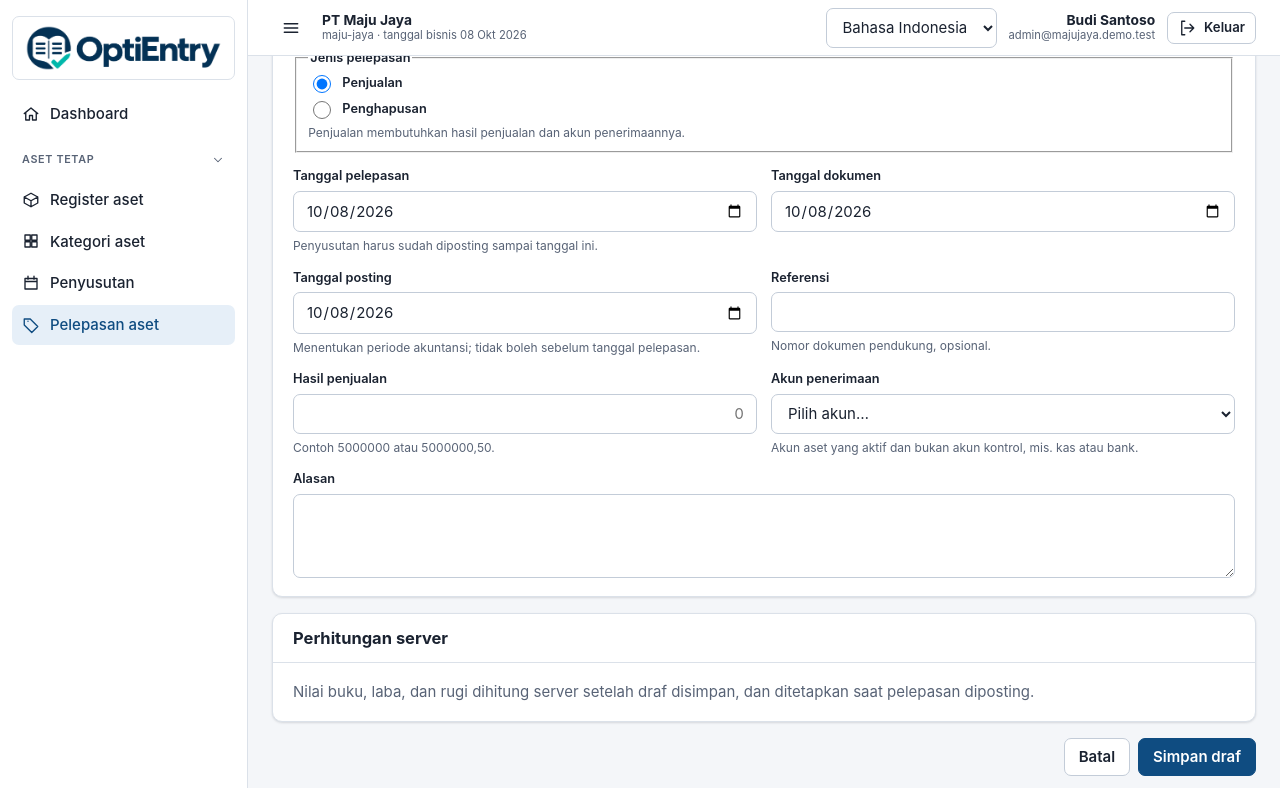
Test: asset disposal editor › sends a sale with its proceeds and receiving account, preselecting the asset it was started from
The image size is (1280, 788).
(page scrolled)
In the field labelled "Hasil penjualan": (525, 414) [293,394,757,434], type "90000000"
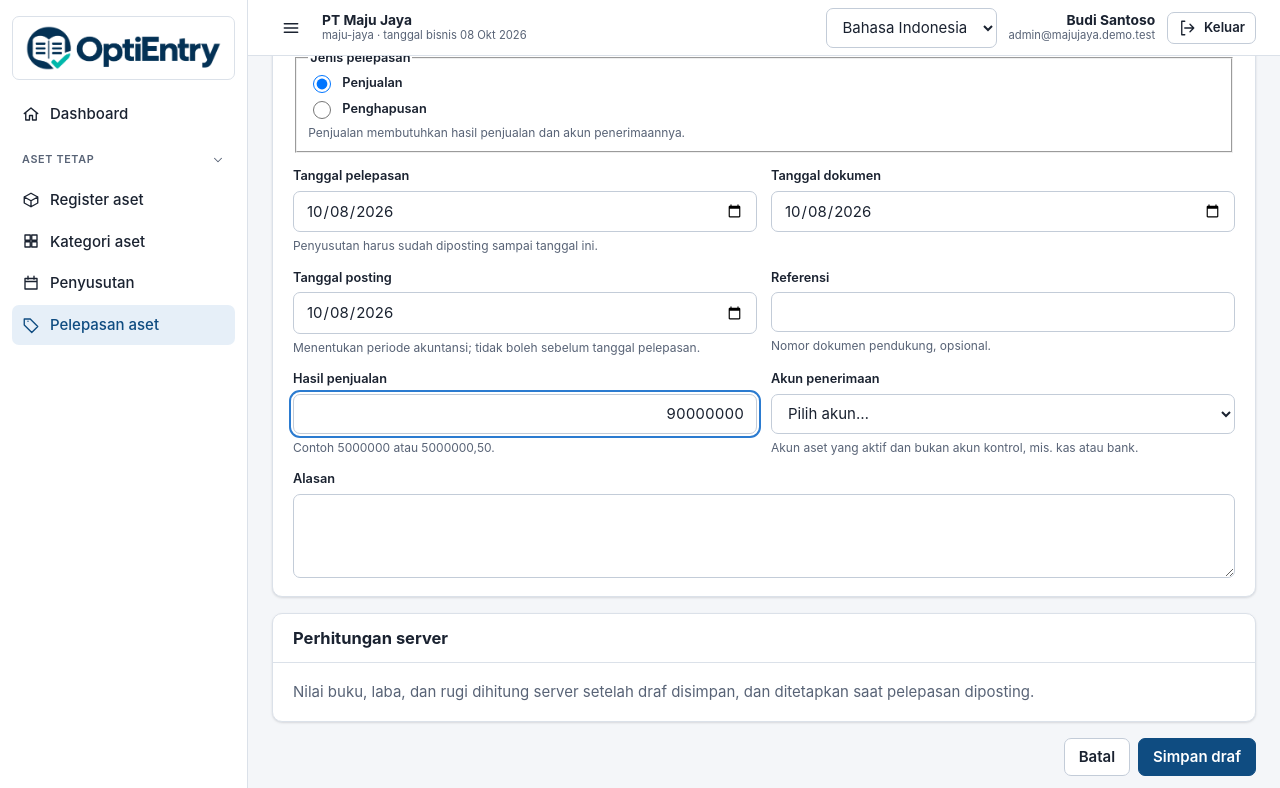
Select "1120 · Bank BCA" in the dropdown labelled "Akun penerimaan": (1003, 414) [771,394,1235,434]
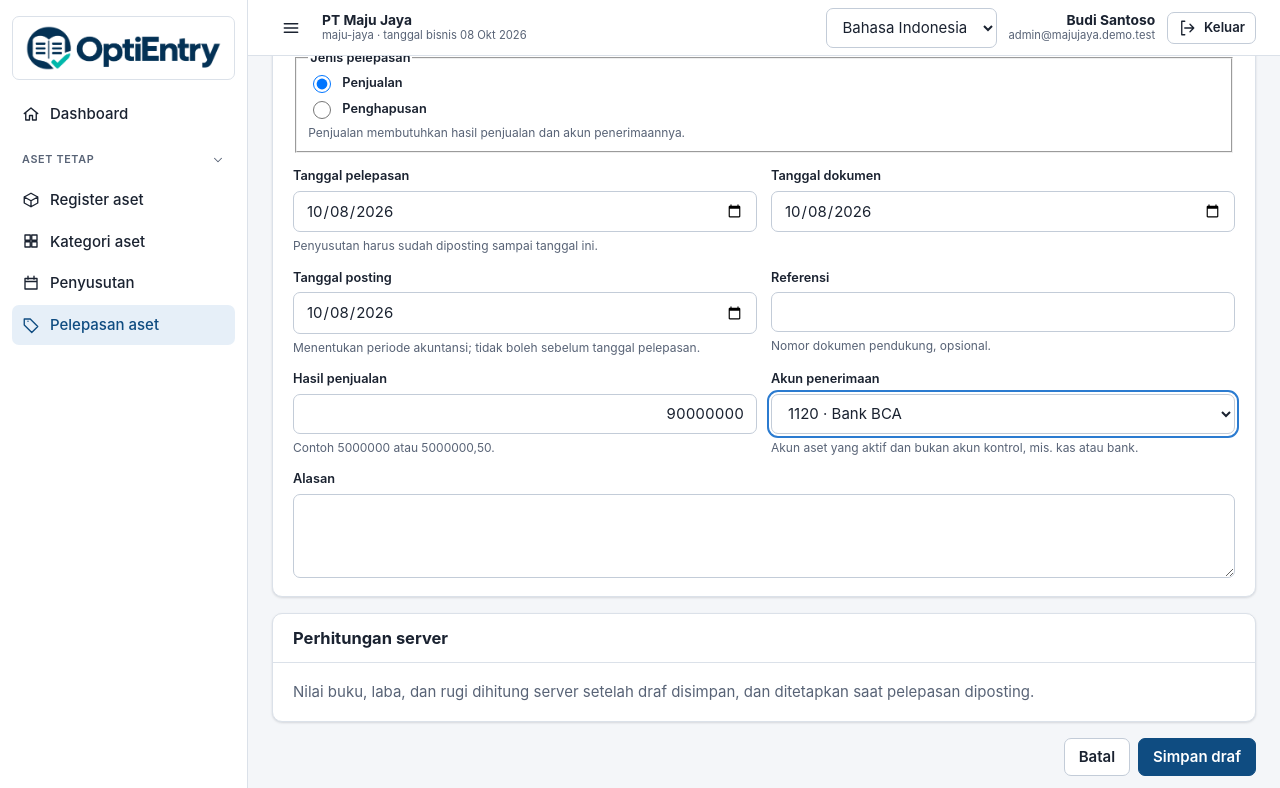
In the text box labelled "Alasan": (764, 536) [293,494,1235,578], type "Dijual ke dealer"
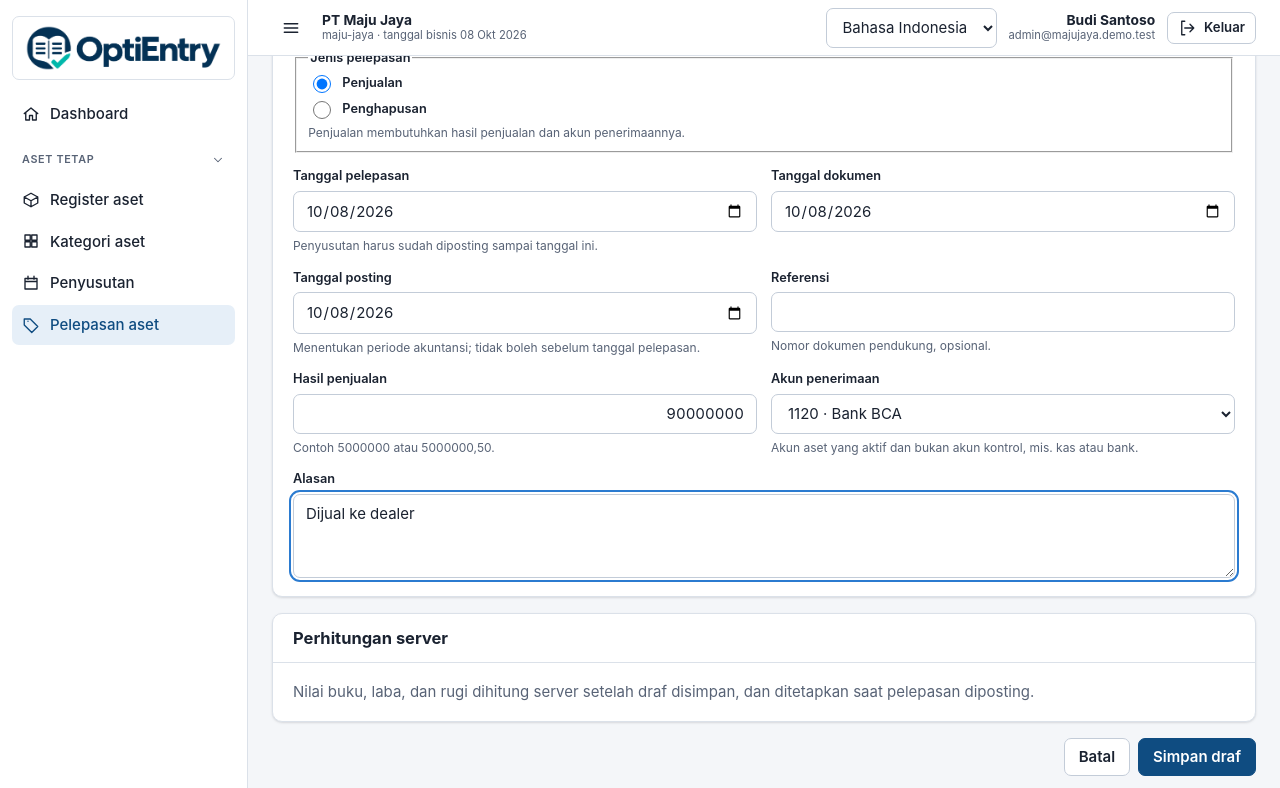
Click the button "Simpan draf": click(1197, 757) [1138,738,1256,776]
(page scrolled)
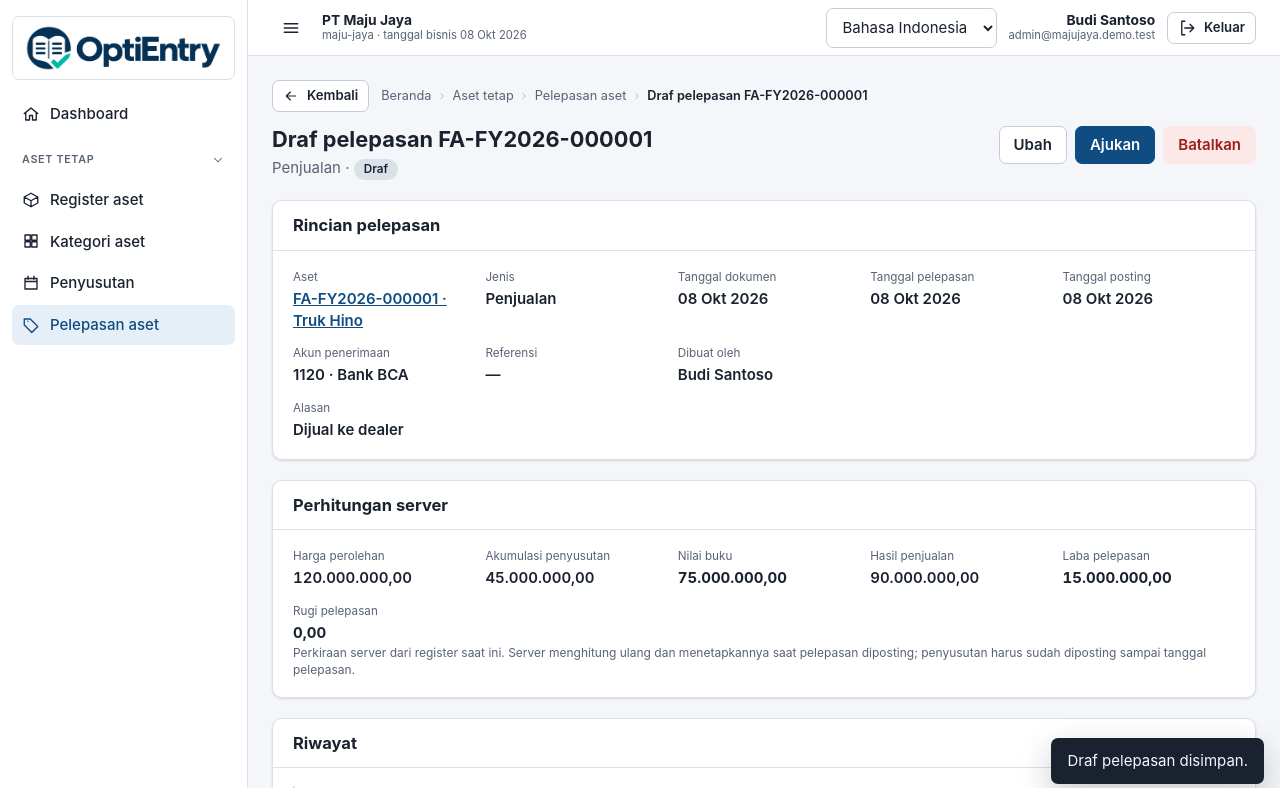
Expected: the text "Draf pelepasan disimpan." is shown, [1051,738,1264,784]
Expected: the heading "Draf pelepasan FA-FY2026-000001" is shown, [272,126,652,153]
